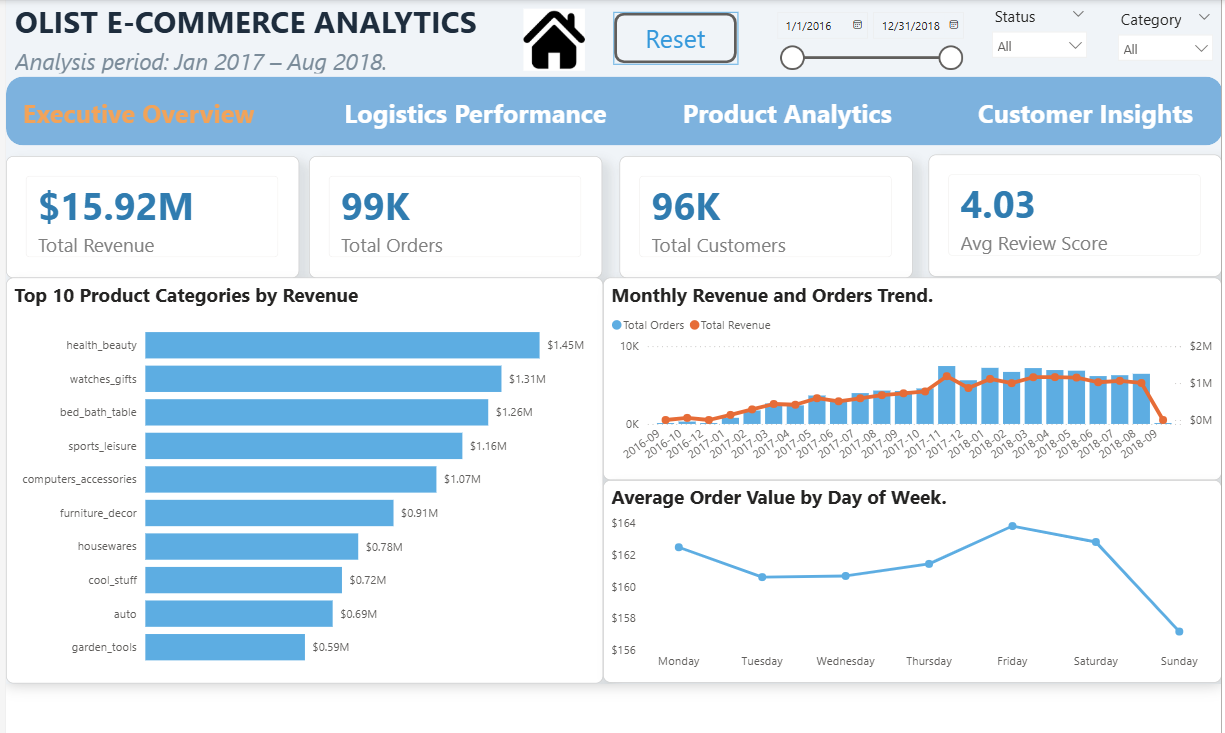

What the dashboard file says about the page in this screenshot:
{"tool":"powerbi","page":{"name":"Overview","canvas":[1280,720],"ordinal":0},"visuals":[{"type":"shape","title":"OLIST E-COMMERCE ANALYTICS","box":[9.4,0,500.8,77.5],"z":0},{"type":"image","box":[544.7,3.2,64.7,77.4],"z":1000},{"type":"actionButton","box":[639.5,12.6,131.1,55.3],"z":2000},{"type":"slicer","fields":{"Values":["Dim_Date.date"]},"box":[799,3.2,216.3,74.2],"z":3000},{"type":"slicer","fields":{"Values":["Dim_Customers.customer_state"]},"box":[1027.9,0,120,70],"z":4000},{"type":"slicer","fields":{"Values":["Dim_Products.category"]},"box":[1160.5,3.2,120,70],"z":5000},{"type":"shape","box":[0,80.3,1281,72.7],"z":6000},{"type":"actionButton","box":[9.1,96.9,260.4,39.4],"z":7000},{"type":"actionButton","box":[346.8,96.9,293.8,39.4],"z":8000},{"type":"actionButton","box":[705.6,96.9,233.2,39.4],"z":9000},{"type":"actionButton","box":[1016,96.9,242.3,39.4],"z":10000},{"type":"cardVisual","fields":{"Data":["_KeyMeasures.Total Revenue"]},"box":[0,163.5,308.9,128.7],"z":11000},{"type":"cardVisual","fields":{"Data":["_KeyMeasures.Total Orders"]},"box":[319.5,163.5,308.9,128.7],"z":12000},{"type":"cardVisual","fields":{"Data":["_KeyMeasures.Total Customers"]},"box":[645.1,163.5,308.9,128.7],"z":13000},{"type":"cardVisual","fields":{"Data":["_KeyMeasures.Avg Review Score"]},"box":[970.6,162,308.9,128.7],"z":14000},{"type":"barChart","title":"Top 10 Product Categories by Revenue","fields":{"Category":["Dim_Products.category"],"Y":["_KeyMeasures.Total Revenue"]},"box":[0,292.2,628.4,427],"z":15000},{"type":"lineStackedColumnComboChart","title":"Monthly Revenue and Orders Trend.","fields":{"Category":["Dim_Date.year_month"],"Y":["_KeyMeasures.Total Orders"],"Y2":["_KeyMeasures.Total Revenue"]},"box":[628.4,292.2,651.1,213.5],"z":16000},{"type":"lineChart","title":"Average Order Value by Day of Week.","fields":{"Category":["Dim_Date.day_name"],"Y":["_KeyMeasures.Average Order Value"]},"box":[628.4,505.7,651.1,213.5],"z":17000}]}

Visuals, with their boxes on the page's 1280x720 design canvas (x1, y1, x2, y2). These are canvas units, not pixel positions in the 1225x733 screenshot, which may show the page scaled, cropped or inside an application window:
"OLIST E-COMMERCE ANALYTICS" shape: (9,0,510,78)
image: (545,3,609,81)
actionButton: (640,13,771,68)
slicer - Dim_Date.date: (799,3,1015,77)
slicer - Dim_Customers.customer_state: (1028,0,1148,70)
slicer - Dim_Products.category: (1160,3,1280,73)
shape: (0,80,1281,153)
actionButton: (9,97,270,136)
actionButton: (347,97,641,136)
actionButton: (706,97,939,136)
actionButton: (1016,97,1258,136)
cardVisual - _KeyMeasures.Total Revenue: (0,164,309,292)
cardVisual - _KeyMeasures.Total Orders: (320,164,628,292)
cardVisual - _KeyMeasures.Total Customers: (645,164,954,292)
cardVisual - _KeyMeasures.Avg Review Score: (971,162,1280,291)
"Top 10 Product Categories by Revenue" barChart: (0,292,628,719)
"Monthly Revenue and Orders Trend." lineStackedColumnComboChart: (628,292,1280,506)
"Average Order Value by Day of Week." lineChart: (628,506,1280,719)
